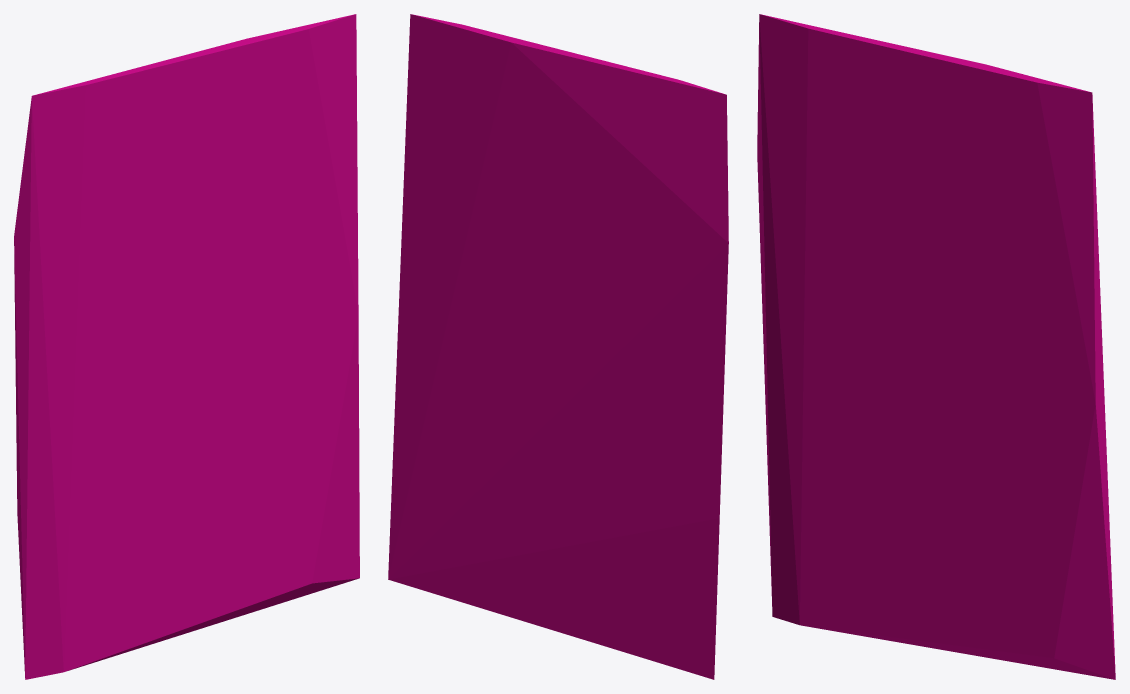
File: organic_bin_convex_piece_004.obj
3 renders of one model, left to right at view 1: azimuth 30°, elevation 25°; view 2: azimuth 150°, elevation 25°; view 3: azimuth 330°, elevation 25°, orthographic. The views are drawn at different scales.
Bounding box in the file's own units: 0.2833 × 0.4641 × 0.0202.
